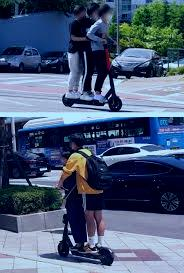multiple: (57, 131, 114, 266), (61, 2, 122, 110)
